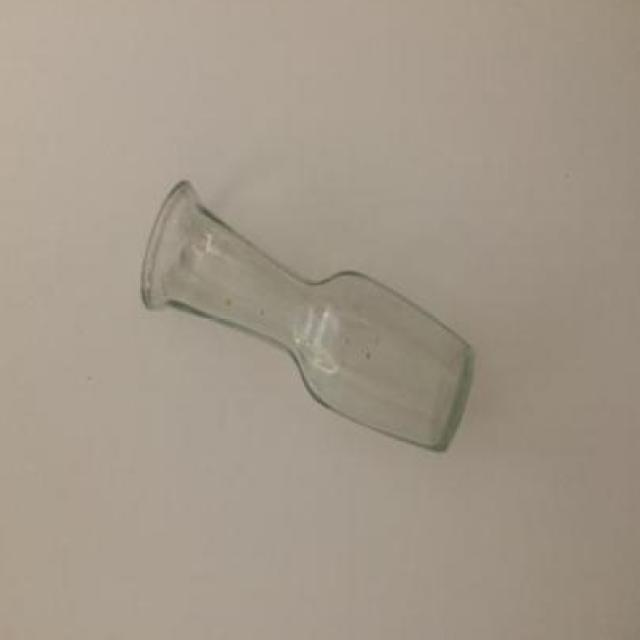kaca: (138, 183, 470, 452)
